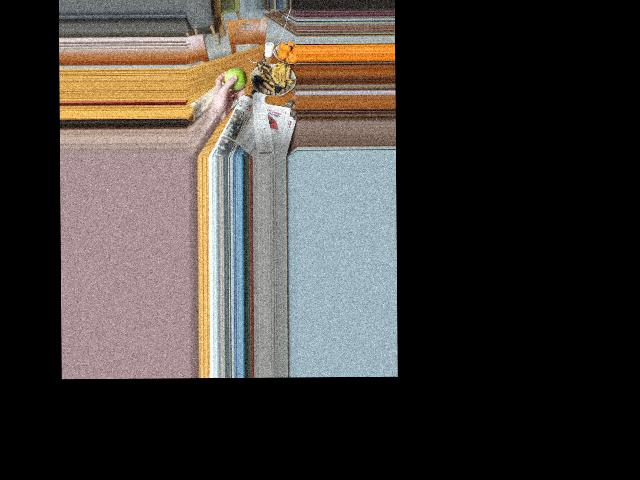apple: (224, 65, 247, 92)
